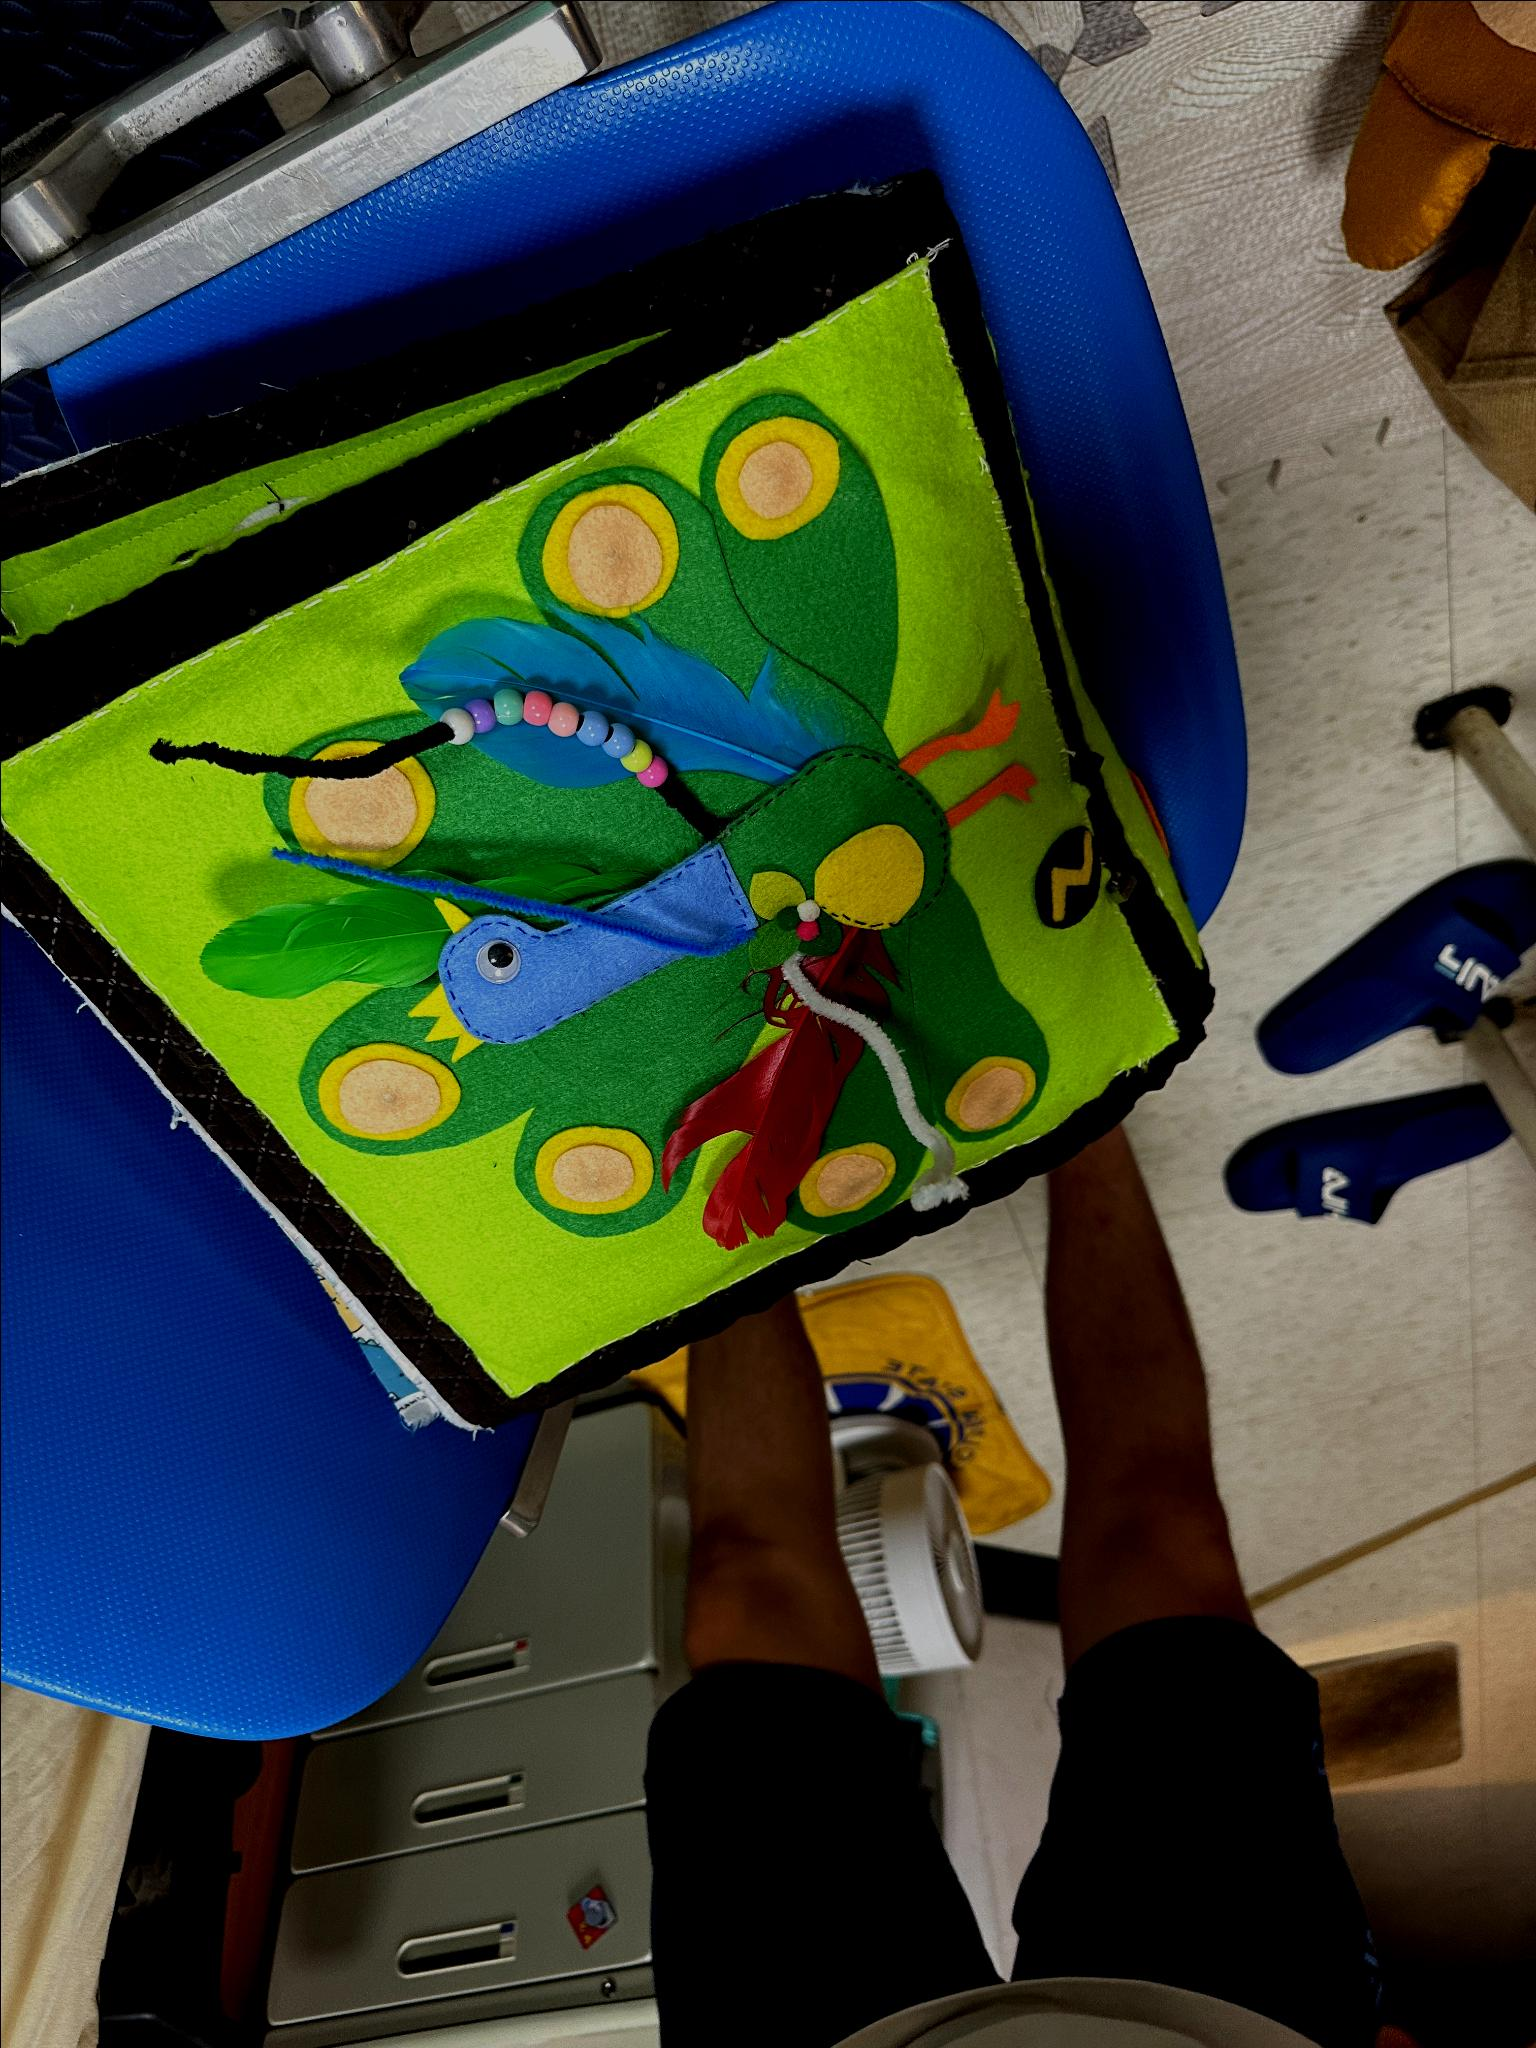bead: (440, 700, 476, 758), (636, 756, 673, 789), (574, 713, 605, 750), (600, 727, 636, 758), (523, 690, 552, 721), (547, 706, 574, 739), (499, 689, 518, 727), (628, 745, 650, 777), (478, 695, 490, 739)
